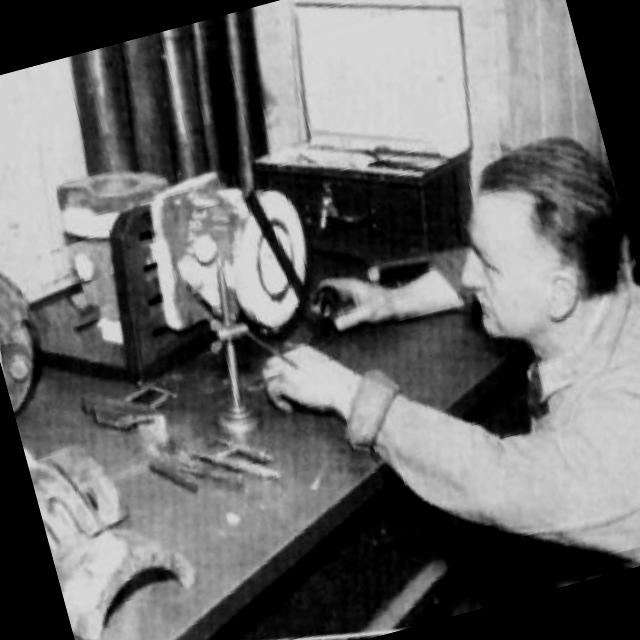Person: (209, 86, 640, 633)
